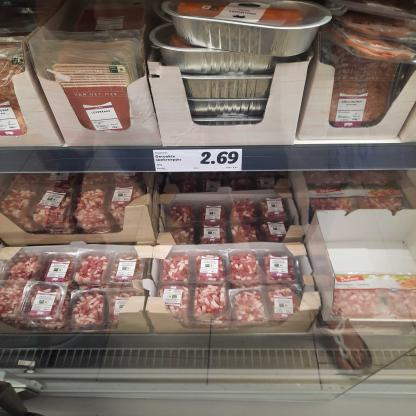prtg: (154, 150, 244, 173)
